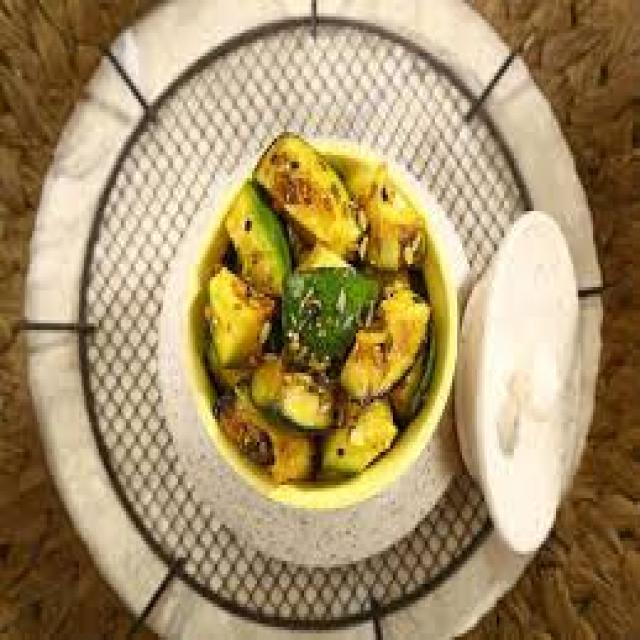biodegradable: (186, 125, 453, 508), (250, 125, 363, 251), (277, 241, 368, 356), (336, 274, 423, 389), (218, 383, 312, 475), (346, 158, 425, 264), (220, 175, 284, 294), (200, 261, 269, 366), (314, 400, 400, 479), (247, 347, 331, 426), (388, 323, 435, 419), (203, 330, 252, 386)
